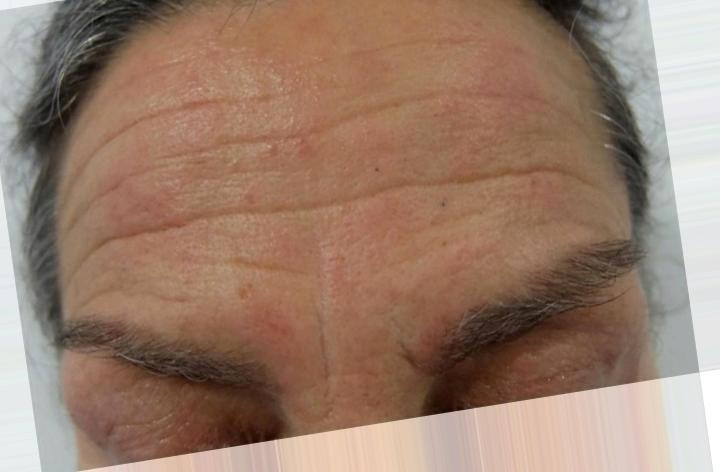Contact Dermatitis: (78, 86, 606, 285)
